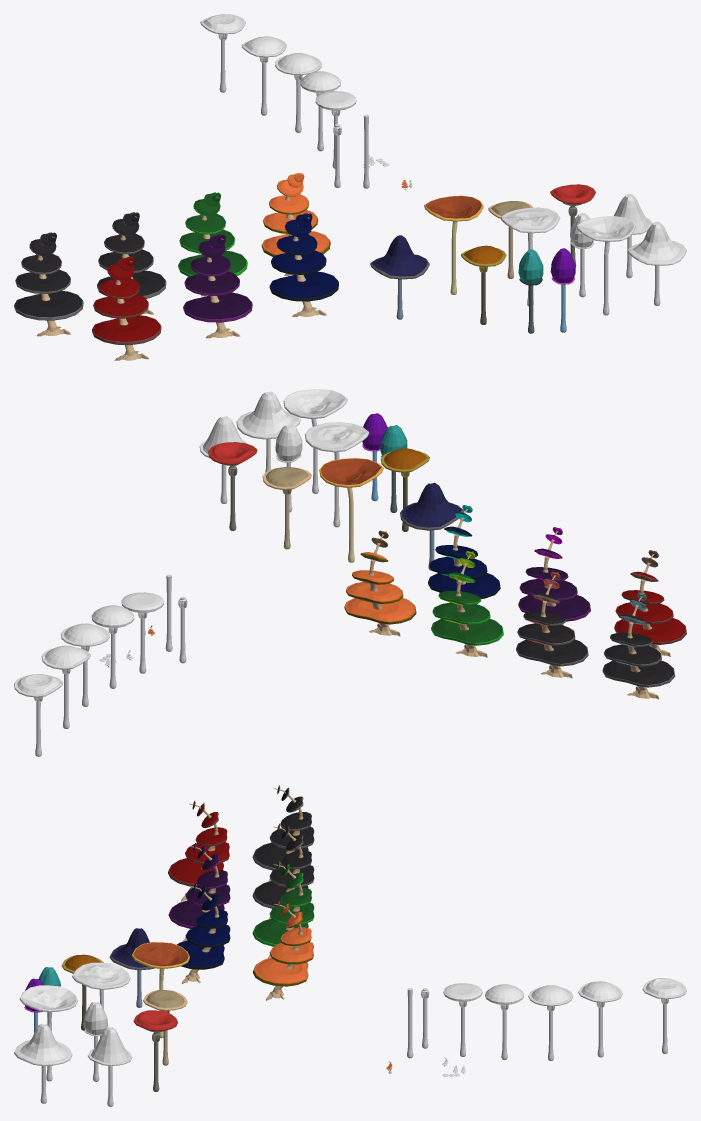
Rendered from F2M4MARINE_ENV_ASSETS_3.fbx.
The picture shows the model from 3 angles, top to bottom: view 1: azimuth 30°, elevation 25°; view 2: azimuth 150°, elevation 25°; view 3: azimuth 270°, elevation 25°; orthographic projection. The views are drawn at different scales.
Visible parts, largest first — view 1: boom2.002, boom2.005, boom2.003, boom2.001, boom2, boom2.004, boom1.001, paddo_6_fin, paddo_6_fin.001, paddo_8_fin, Cylinder.015, paddo_7_fin (+12 smaller); view 2: boom2, boom2.005, boom2.004, boom1.001, boom2.001, boom2.002, boom2.003, paddo_6_fin.001, paddo_6_fin, Cylinder.015, paddo_8_fin, paddo_7_fin (+12 smaller); view 3: boom1.001, boom2.003, boom2.001, boom2.002, boom2.004, boom2.005, boom2, paddo_6_fin, paddo_8_fin, Cylinder.015, paddo_7_fin, paddo_4_fin (+10 smaller).
Boxes of the visible parts, x1,y1,x2,y2 form: boom2.002: (183,234,252,338); boom2.005: (14,232,83,336); boom2.003: (269,213,338,316); boom2.001: (92,257,161,360); boom2: (97,212,166,314); boom2.004: (178,192,247,296); boom1.001: (261,173,330,275); paddo_6_fin: (627,221,686,305); paddo_6_fin.001: (370,235,429,319); paddo_8_fin: (576,216,635,315); Cylinder.015: (424,195,483,294); paddo_7_fin: (500,207,560,306); boom2: (516,571,588,678); boom2.005: (602,592,675,699); boom2.004: (431,551,503,657); boom1.001: (344,530,416,636); boom2.001: (614,550,686,656); boom2.002: (518,527,590,633); boom2.003: (428,505,500,598); paddo_6_fin.001: (400,482,464,570); paddo_6_fin: (236,391,300,472); Cylinder.015: (319,458,383,562); paddo_8_fin: (283,389,347,493); paddo_7_fin: (305,422,369,527); boom1.001: (253,901,313,1000); boom2.003: (177,883,230,983); boom2.001: (168,801,229,901); boom2.002: (168,843,230,941); boom2.004: (252,861,314,958); boom2.005: (252,785,314,881); boom2: (252,823,314,919); paddo_6_fin: (14,1024,72,1103); paddo_8_fin: (19,985,77,1081); Cylinder.015: (131,942,189,1038); paddo_7_fin: (72,962,130,1037); paddo_4_fin: (88,1027,132,1106).
Bounding box in the file's own units: 23468 × 4187 × 26656.
